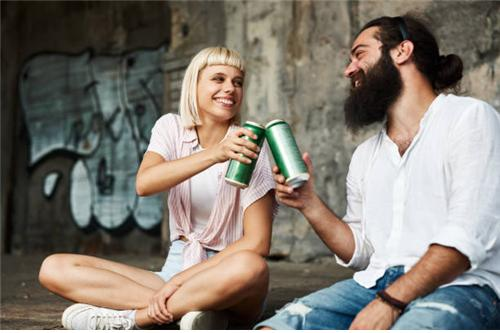alcohol: (263, 119, 310, 189), (222, 119, 264, 190)
